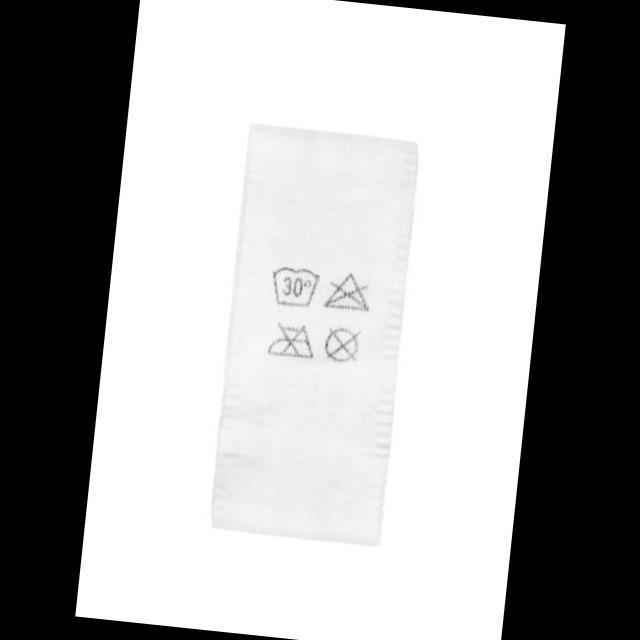30C: (266, 262, 323, 312)
DN_bleach: (319, 268, 376, 316)
DN_dry_clean: (319, 322, 366, 368)
DN_iron: (264, 317, 319, 363)
